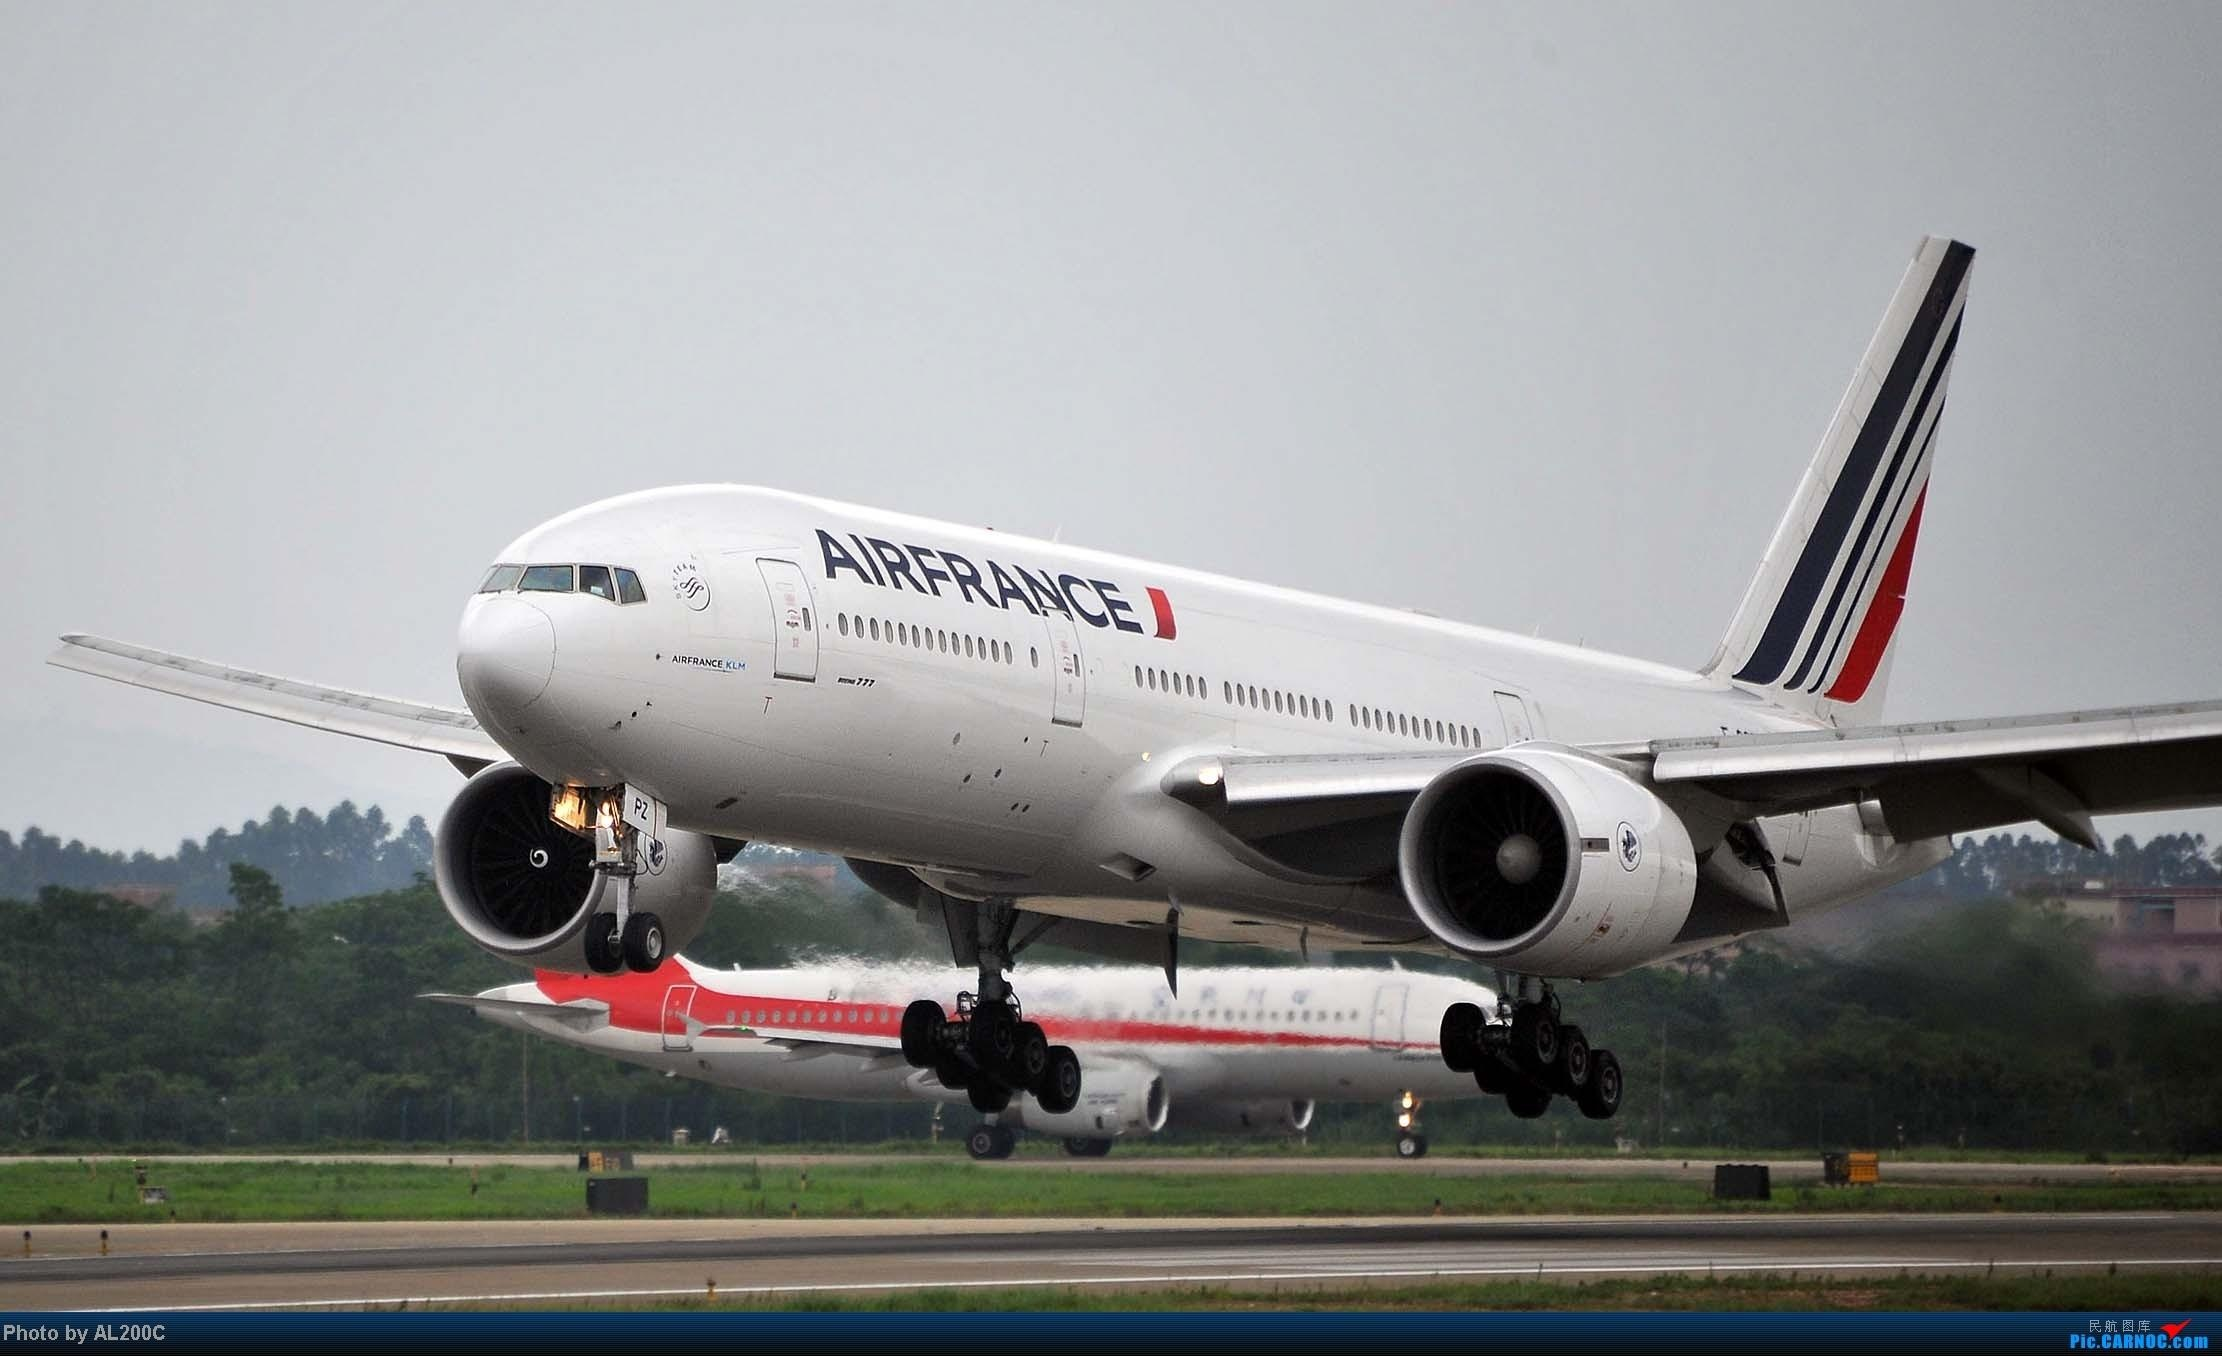airplane: (37, 237, 2222, 984), (448, 948, 1587, 1154)
